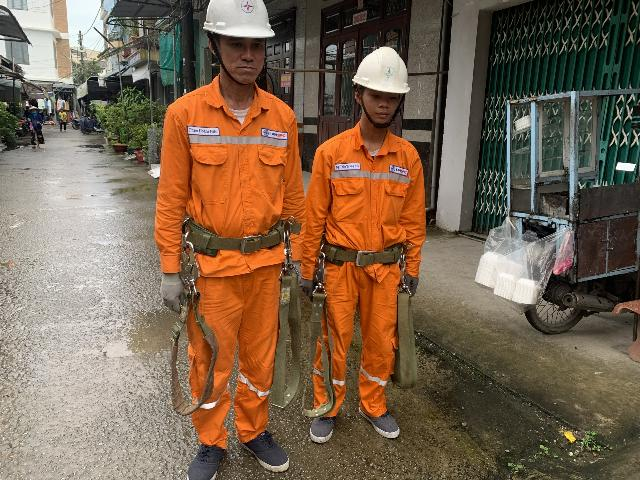gloves: (150, 266, 190, 313), (290, 267, 328, 309), (394, 260, 423, 299)
harness: (177, 208, 289, 258), (307, 232, 411, 275)
helmet: (196, 0, 292, 61), (339, 43, 422, 108)
shoes: (228, 428, 304, 480), (162, 434, 230, 480), (296, 392, 342, 446), (349, 400, 405, 443)
